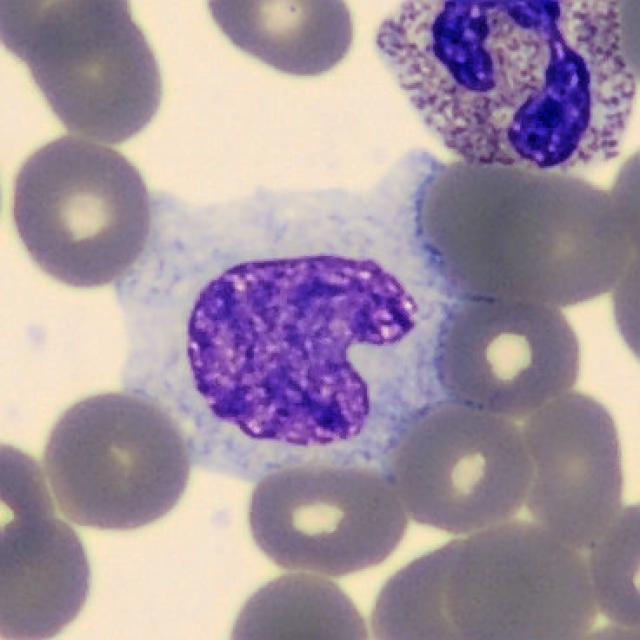Linfocito atipico: (129, 190, 459, 476)
